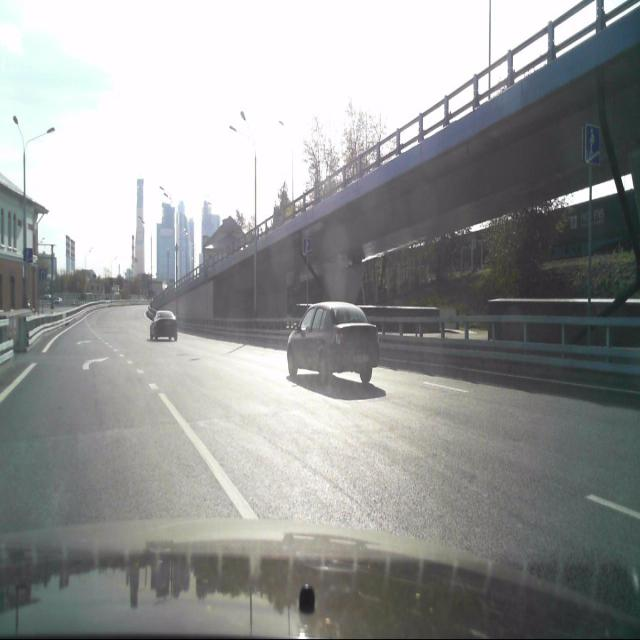road sign: (584, 119, 600, 164), (300, 234, 312, 255)
